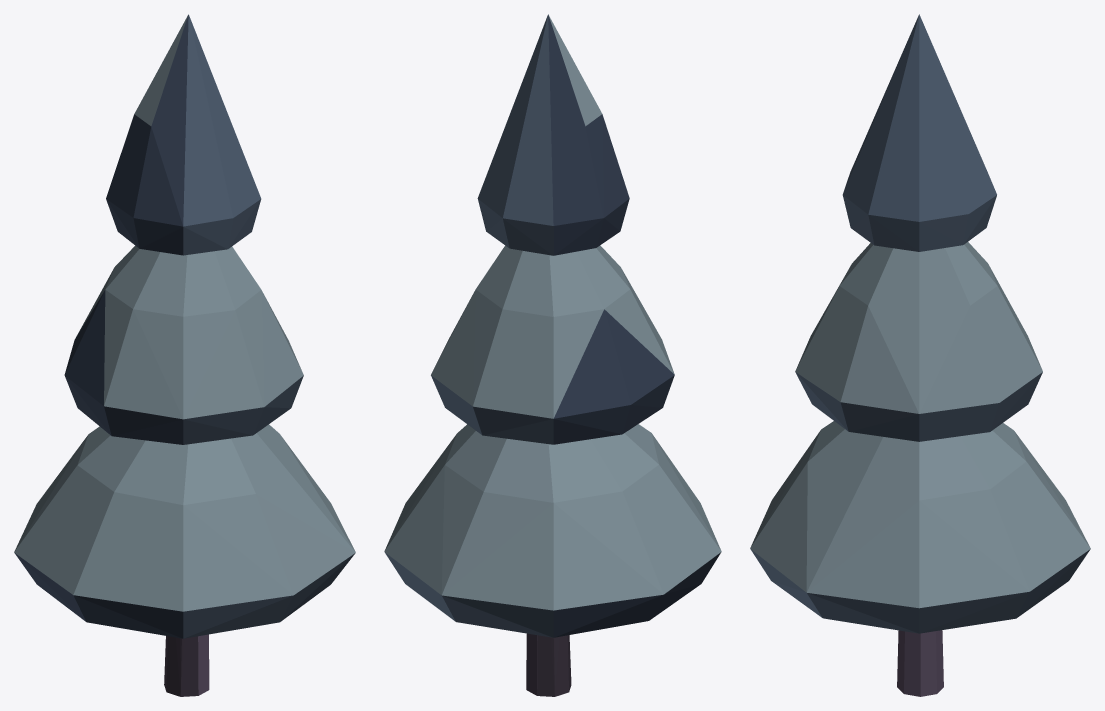
The model's file is TW_TREE_TIERED_SLIM_A_LOD1.glb.
3 renders of one model, left to right at view 1: azimuth 30°, elevation 25°; view 2: azimuth 150°, elevation 25°; view 3: azimuth 270°, elevation 25°, orthographic.
Parts seen in each view (by area): view 1: TW_TREE_TIERED_SLIM_A_LOD1; view 2: TW_TREE_TIERED_SLIM_A_LOD1; view 3: TW_TREE_TIERED_SLIM_A_LOD1.
Part boxes in pixels (box(x1,y1,x2,y2)): TW_TREE_TIERED_SLIM_A_LOD1: box(14, 14, 355, 696); TW_TREE_TIERED_SLIM_A_LOD1: box(384, 14, 721, 696); TW_TREE_TIERED_SLIM_A_LOD1: box(750, 14, 1090, 696).
Bounding box in the file's own units: 1.7 × 3.8 × 1.74.
Materials: 1 (1 with a texture image).
